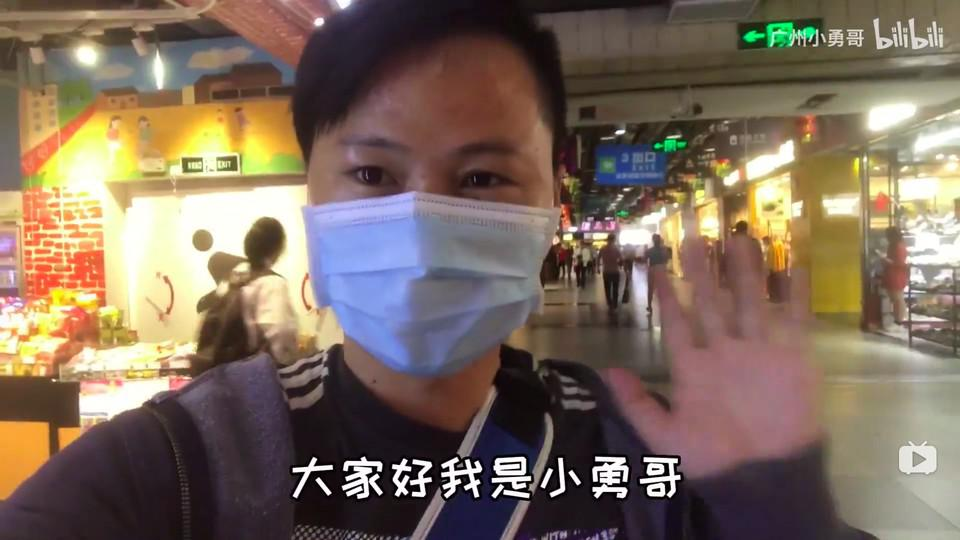OK: (305, 59, 554, 372)
